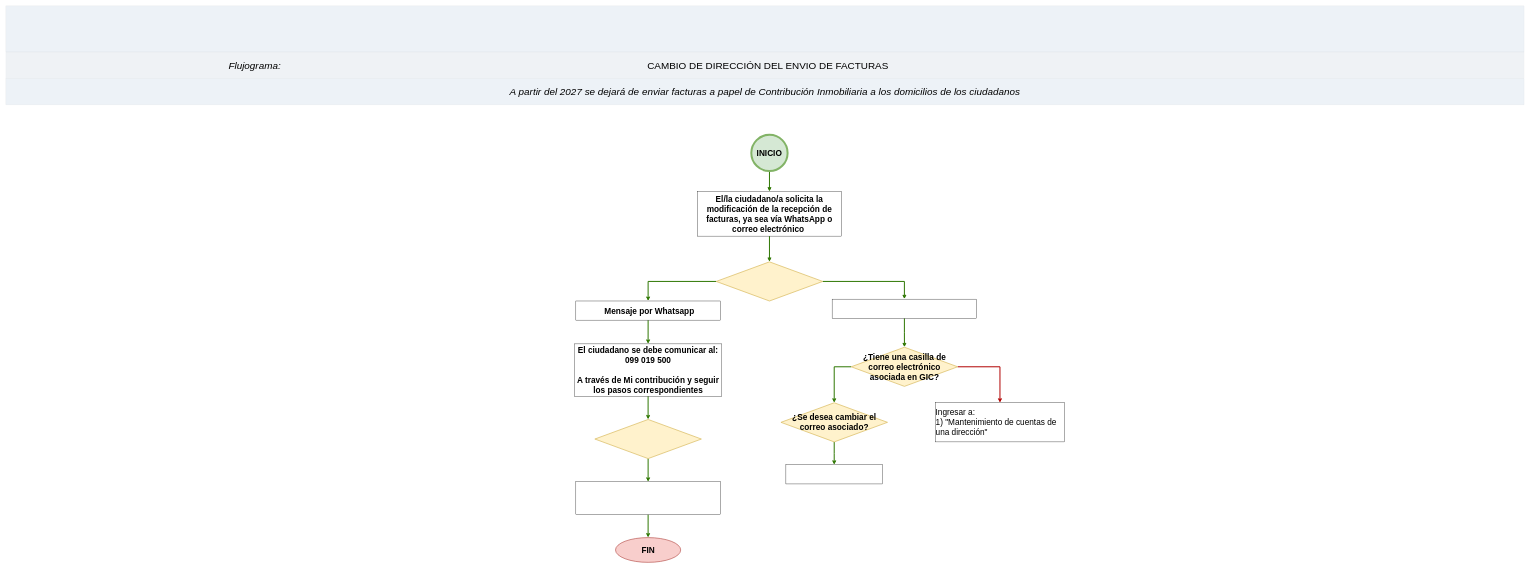
Image size: 1530x568. Some labels were removed from this diagram. The shapes that lost their labels are listed below. From the top down, each one's centre as x and y in pixels, then its label:
the point at 769,281: ¿Por cuál vía quieren recibir la factura a partir de ahora?
the point at 904,308: Correo electrónico
the point at 648,439: ¿Qué información le solicitan?
the point at 648,498: - Número de cuenta corriente - Padrón
